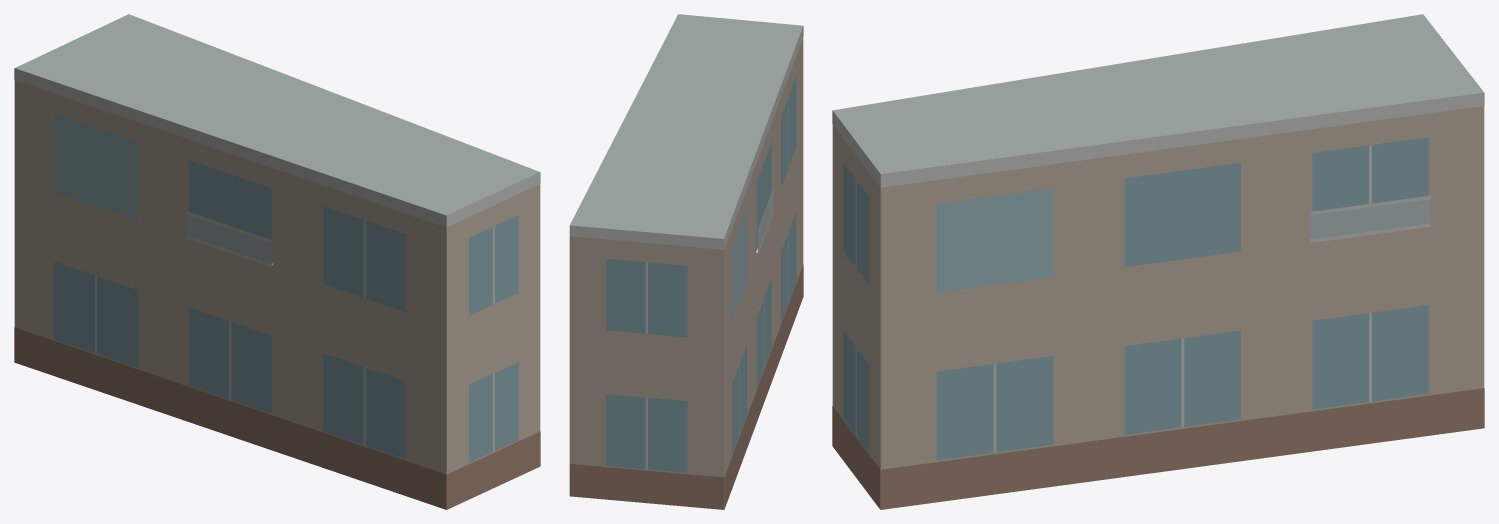
The model's file is survey-upis-32513866.glb.
3 renders of one model, left to right at view 1: azimuth 30°, elevation 25°; view 2: azimuth 150°, elevation 25°; view 3: azimuth 270°, elevation 25°, orthographic. The views are drawn at different scales.
Visible parts, largest first — view 1: survey-upis-32513866.tmp; view 2: survey-upis-32513866.tmp; view 3: survey-upis-32513866.tmp.
Boxes of the visible parts, x1,y1,x2,y2 form: survey-upis-32513866.tmp: (14,14,540,509); survey-upis-32513866.tmp: (569,14,803,509); survey-upis-32513866.tmp: (832,14,1484,509).
Bounding box in the file's own units: 6.25 × 6.1 × 10.75.
